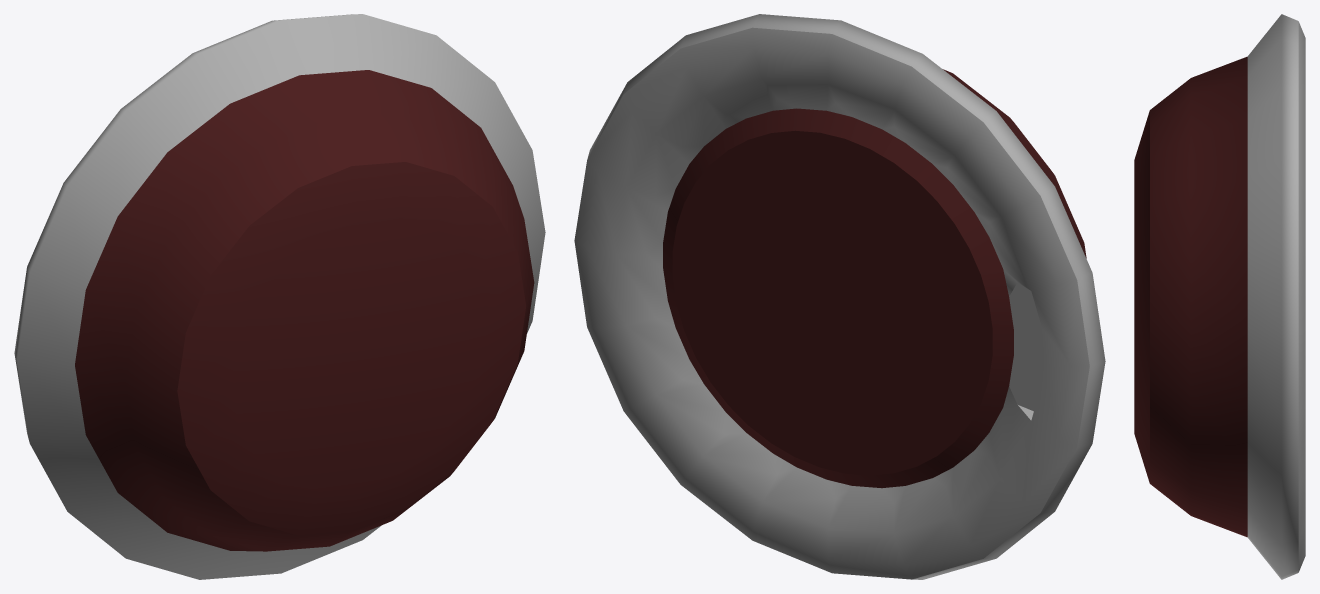
File: WasherDoor.fbx
The picture shows the model from 3 angles, left to right: view 1: azimuth 30°, elevation 25°; view 2: azimuth 150°, elevation 25°; view 3: azimuth 270°, elevation 25°; orthographic projection. The views are drawn at different scales.
Parts seen in each view (by area): view 1: pCylinder26; view 2: pCylinder26; view 3: pCylinder26.
Part boxes in pixels (box(x1,y1,x2,y2)): pCylinder26: box(14, 14, 545, 579); pCylinder26: box(574, 14, 1105, 579); pCylinder26: box(1134, 14, 1305, 579).
Bounding box in the file's own units: 1.48 × 1.48 × 0.4463.
